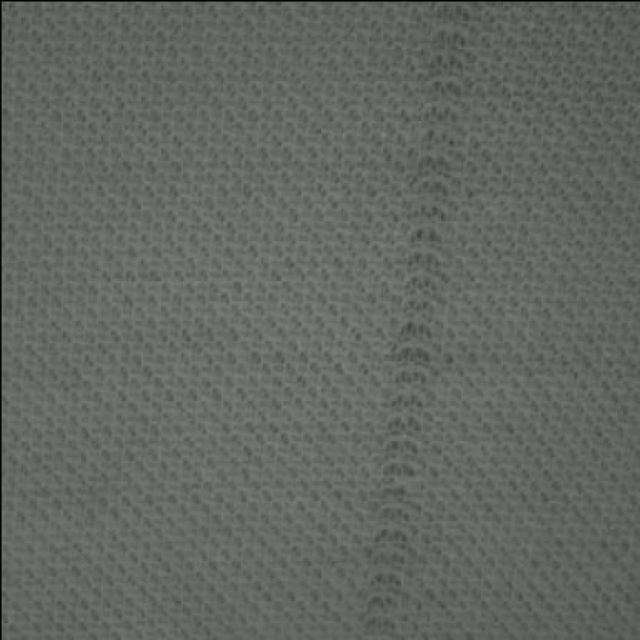Line: (359, 7, 475, 640)
